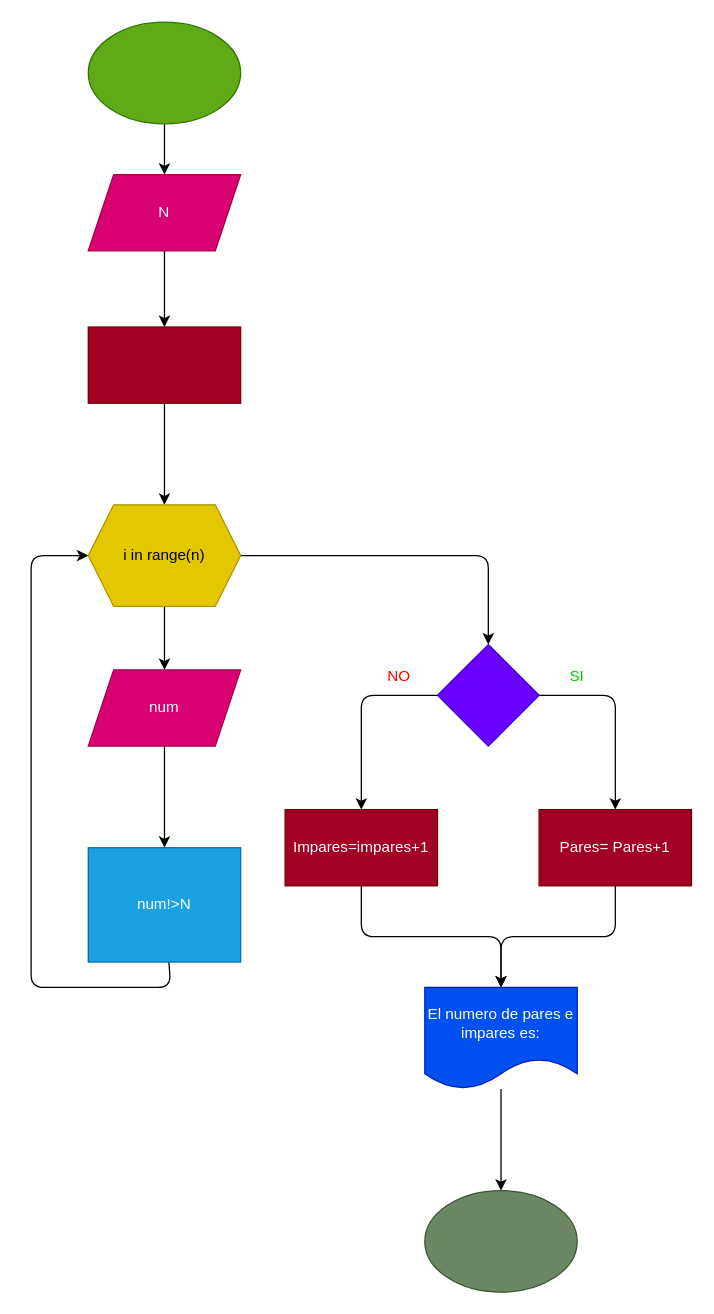
The diagram is 714 pixels wide and 1314 high, and some of its shapes have lost their labels. The centre of each missing label's shape, as x and y in pixels:
"FIN" goes at [500,1240].
"INICIO" goes at [164,72].
"num % 2 == 0" goes at [487,694].
"Pares=0 Impares=0" goes at [164,364].
